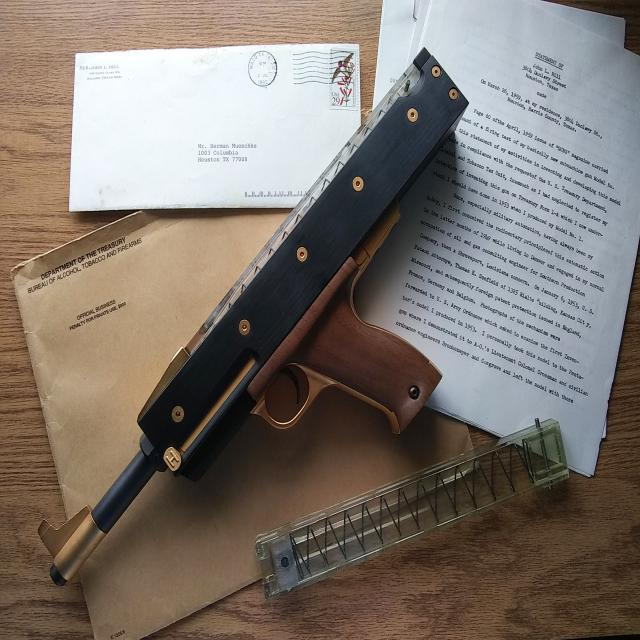Gun: (49, 64, 512, 558)
